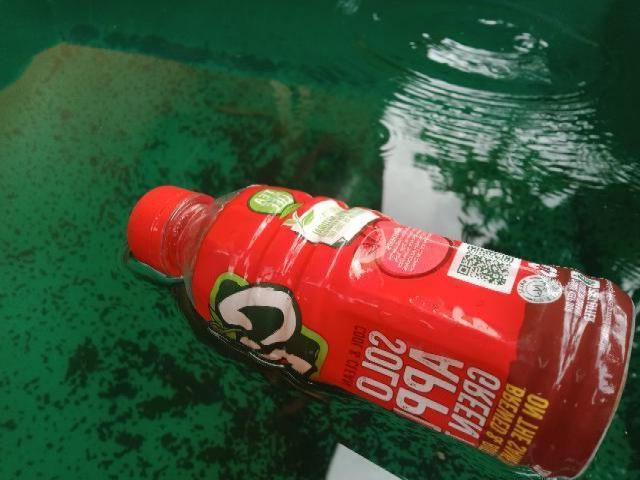Bottle: (110, 176, 640, 480)
